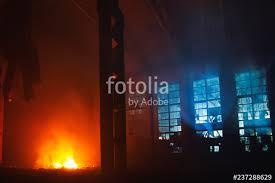fire: (42, 140, 83, 170)
